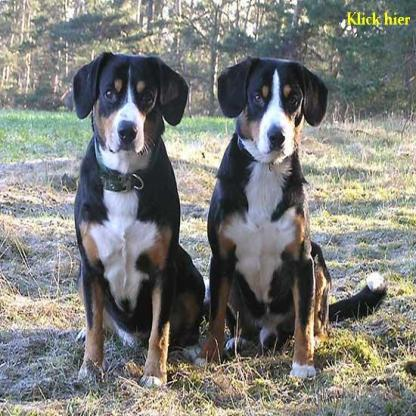EntleBucher: (201, 51, 388, 394), (72, 49, 205, 390)
